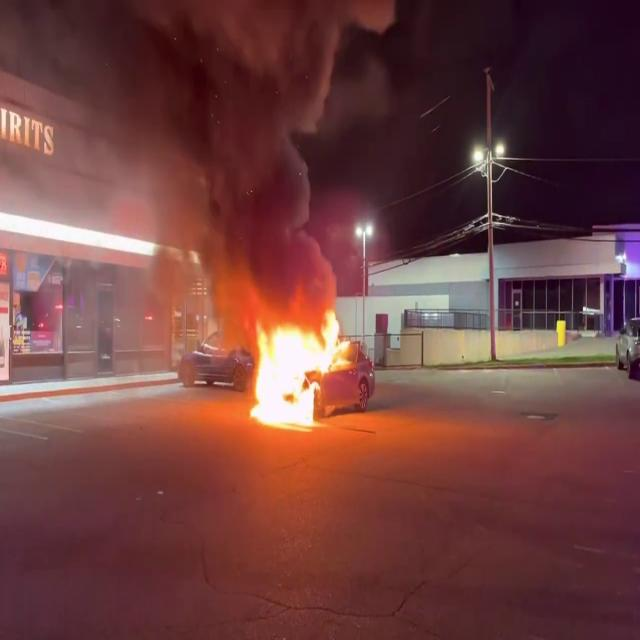Fire: (241, 304, 352, 429)
Smoke: (115, 0, 347, 316)
